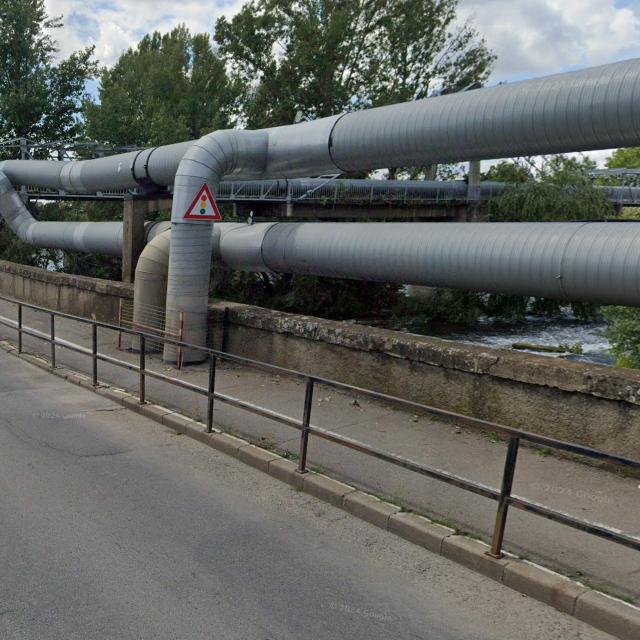warn_traffic_light: (182, 180, 224, 220)
